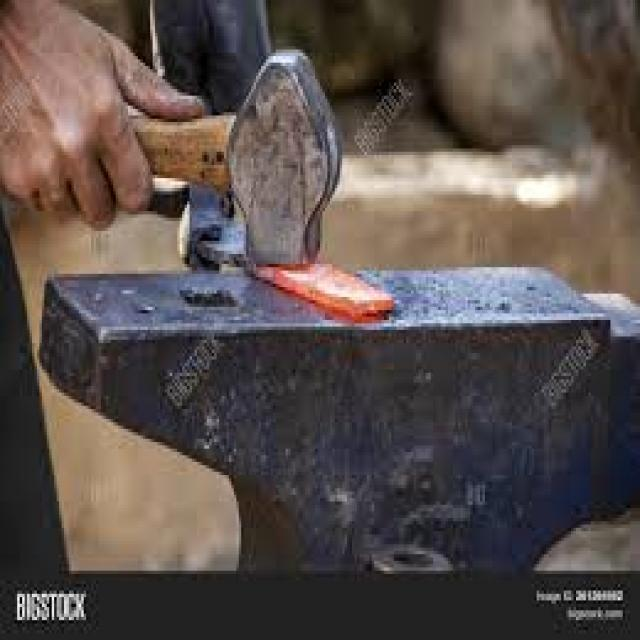hammer: (0, 41, 350, 272)
